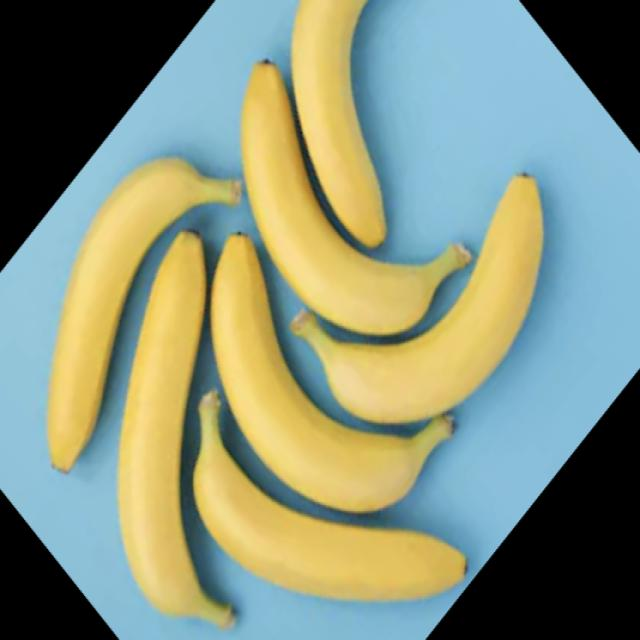god quality banana: (210, 61, 544, 513), (48, 158, 240, 472), (193, 393, 467, 601), (119, 231, 233, 629), (294, 2, 386, 246)
